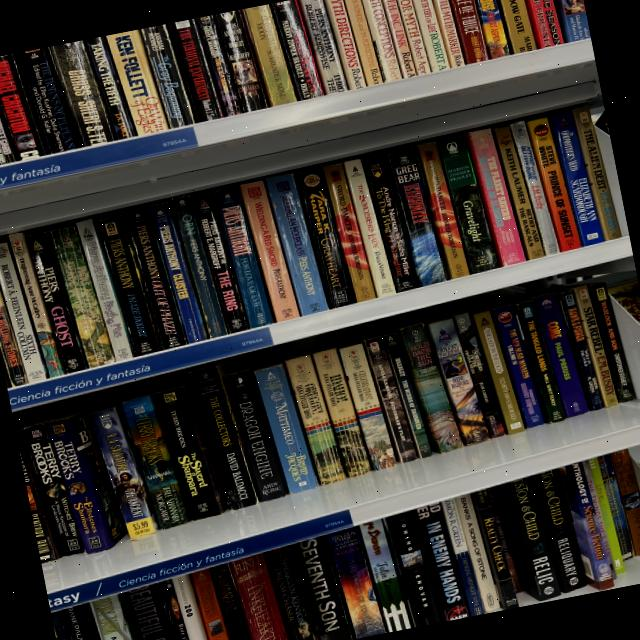book: (0, 64, 98, 640), (186, 364, 259, 513), (87, 404, 163, 541), (153, 383, 227, 523), (120, 393, 192, 531), (264, 171, 330, 317), (50, 224, 116, 369), (124, 205, 189, 351), (395, 321, 464, 456), (252, 361, 321, 496), (97, 214, 162, 357), (222, 367, 289, 504), (212, 185, 275, 330), (238, 179, 301, 324), (435, 135, 500, 275), (22, 422, 88, 559), (283, 352, 349, 487), (75, 218, 136, 363), (424, 316, 491, 447), (7, 230, 66, 378), (148, 201, 209, 344), (309, 345, 374, 479), (360, 154, 423, 292), (464, 127, 526, 267), (190, 191, 250, 334), (386, 148, 447, 288), (296, 168, 356, 310), (336, 339, 399, 472), (51, 419, 112, 556), (502, 475, 567, 603), (171, 194, 228, 339), (320, 163, 377, 303), (6, 430, 65, 564), (556, 461, 616, 592), (414, 140, 470, 280), (341, 158, 397, 298), (48, 36, 116, 151), (525, 116, 582, 253), (361, 331, 419, 465), (527, 468, 588, 595), (14, 43, 81, 157), (105, 25, 171, 139), (491, 125, 546, 261), (549, 111, 604, 247), (508, 120, 562, 256), (532, 292, 590, 418), (452, 311, 509, 439), (470, 309, 527, 436), (380, 329, 434, 459), (325, 525, 386, 640), (571, 105, 622, 242), (356, 518, 416, 634), (411, 502, 469, 621), (291, 534, 356, 640), (0, 241, 48, 384), (491, 303, 545, 429), (512, 299, 566, 425), (385, 510, 441, 629), (139, 21, 198, 130), (168, 16, 225, 124), (470, 488, 520, 610), (241, 2, 298, 109), (556, 288, 605, 412), (588, 281, 637, 403), (214, 8, 269, 115), (572, 284, 619, 408), (438, 497, 486, 618), (270, 0, 325, 103), (454, 493, 501, 613), (85, 33, 137, 141), (263, 544, 318, 640), (0, 52, 47, 163), (297, 0, 350, 97), (197, 12, 243, 118), (486, 485, 529, 594), (588, 457, 626, 575), (582, 460, 618, 580), (596, 453, 636, 560), (342, 0, 385, 88), (119, 581, 180, 640), (207, 562, 252, 640), (362, 0, 403, 84), (610, 449, 640, 556), (189, 567, 230, 640), (381, 0, 418, 79), (412, 0, 452, 73), (0, 286, 28, 388), (396, 0, 432, 76), (170, 573, 210, 640), (449, 0, 489, 65), (432, 0, 466, 69), (474, 0, 511, 60), (88, 592, 134, 640), (497, 0, 537, 55), (525, 0, 565, 50), (160, 578, 190, 640), (554, 0, 591, 43), (66, 602, 99, 640), (0, 102, 19, 164), (611, 283, 639, 322), (0, 113, 16, 164), (49, 609, 75, 640)
